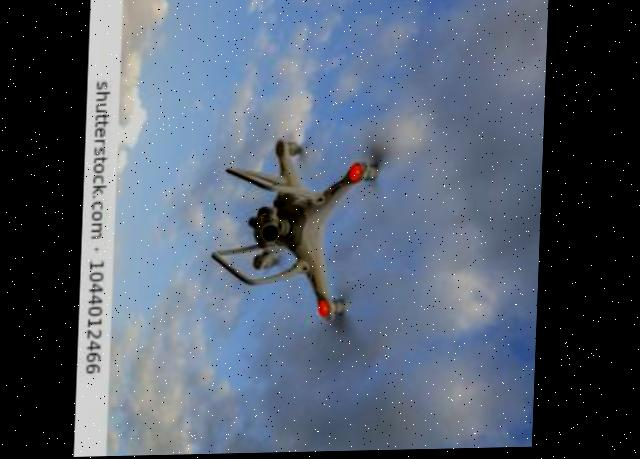drone: (184, 65, 439, 393)
